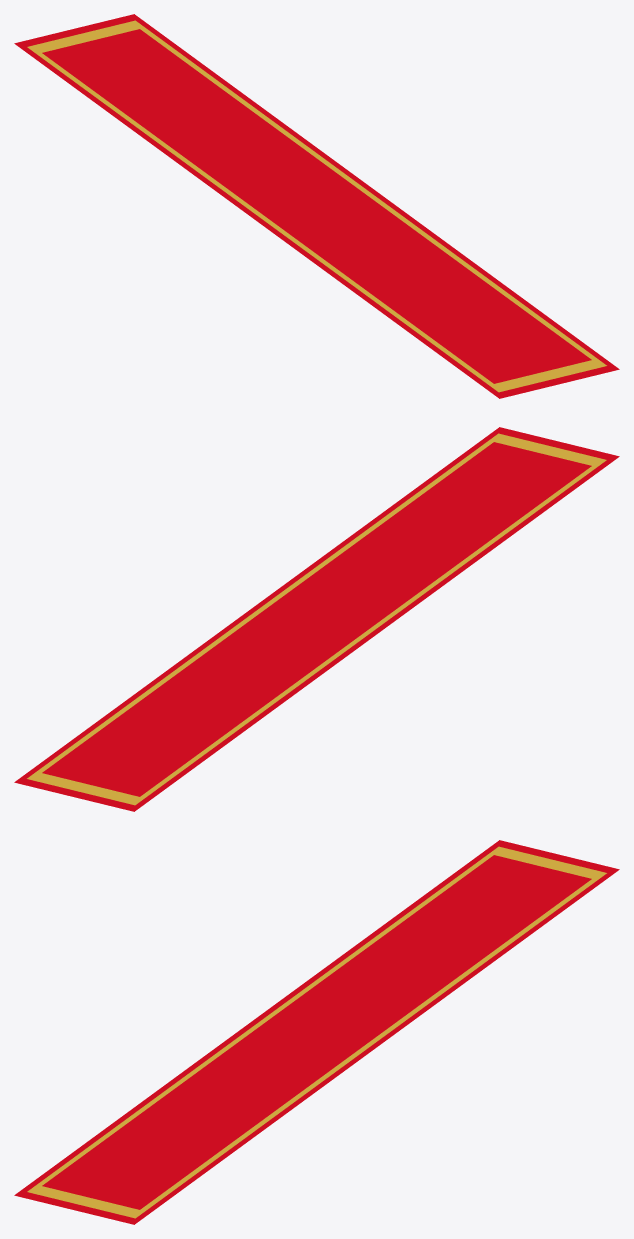
File: alfombra.fbx
3 views of the same model, one above another, from view 1: azimuth 30°, elevation 25°; view 2: azimuth 150°, elevation 25°; view 3: azimuth 330°, elevation 25° (orthographic).
Parts seen in each view (by area): view 1: Plane; view 2: Plane; view 3: Plane.
Part boxes in pixels (bbox=[...]): Plane: bbox=[14, 14, 619, 398]; Plane: bbox=[14, 427, 619, 811]; Plane: bbox=[14, 840, 619, 1224].
Size of the model in its own units: 707 by 0.000373 by 4939.
